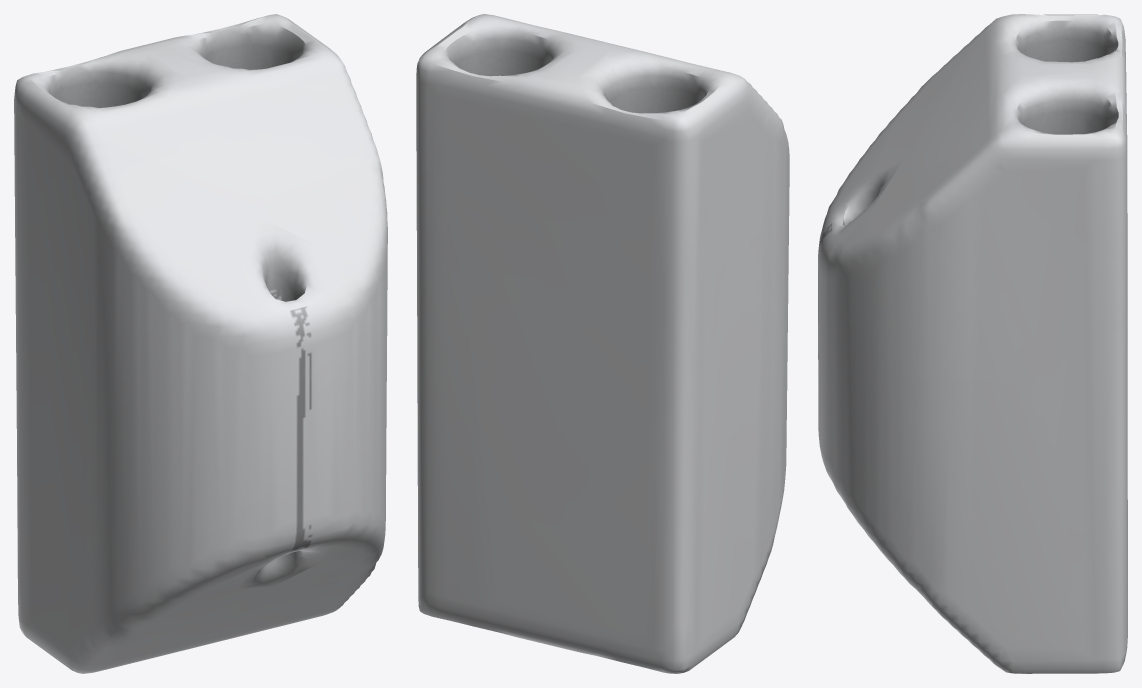
File: right_finger1_middle.glb
3 views of the same model, side by side, from view 1: azimuth 30°, elevation 25°; view 2: azimuth 150°, elevation 25°; view 3: azimuth 270°, elevation 25° (orthographic). The views are drawn at different scales.
Parts seen in each view (by area): view 1: right_finger1_middle; view 2: right_finger1_middle; view 3: right_finger1_middle.
Boxes of the visible parts, bbox=[...] form: right_finger1_middle: bbox=[14, 14, 387, 673]; right_finger1_middle: bbox=[416, 14, 789, 673]; right_finger1_middle: bbox=[818, 14, 1127, 673].
Size of the model in its own units: 0.0103 by 0.0201 by 0.0103.
1 material, 1 textured.
